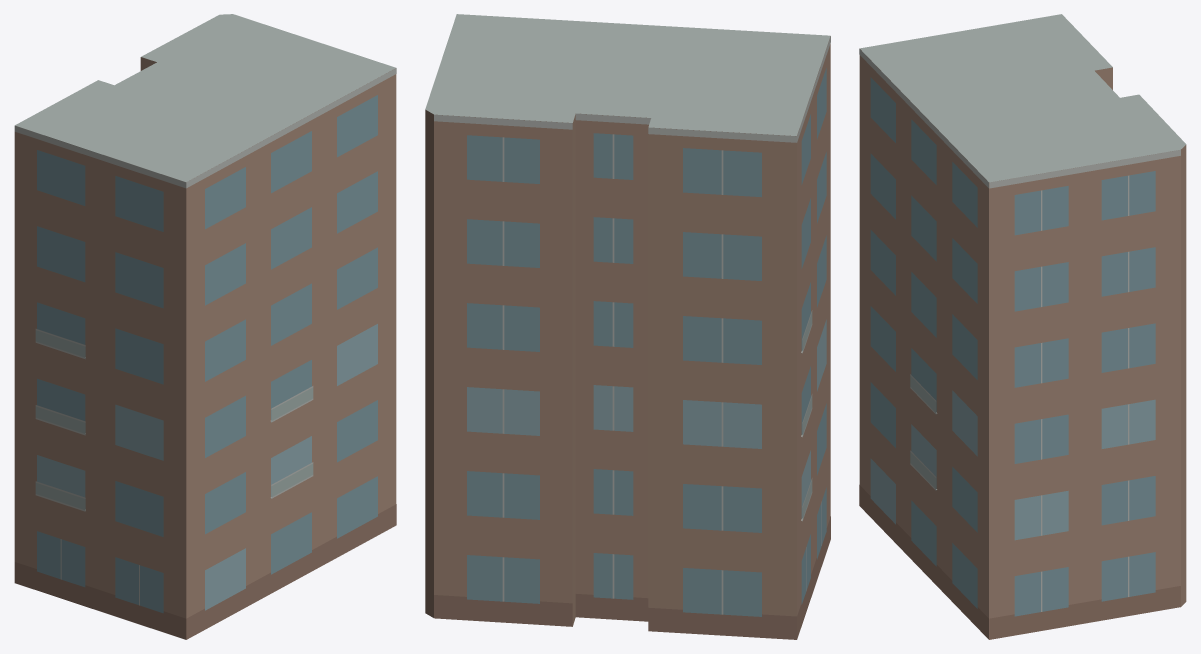
The model's file is survey-upis-32731596.glb.
3 renders of one model, left to right at view 1: azimuth 30°, elevation 25°; view 2: azimuth 150°, elevation 25°; view 3: azimuth 270°, elevation 25°, orthographic. The views are drawn at different scales.
Parts seen in each view (by area): view 1: survey-upis-32731596.tmp; view 2: survey-upis-32731596.tmp; view 3: survey-upis-32731596.tmp.
Part boxes in pixels (x1,y1,x2,y2): survey-upis-32731596.tmp: (14, 14, 396, 639); survey-upis-32731596.tmp: (425, 14, 830, 639); survey-upis-32731596.tmp: (859, 14, 1186, 639).
Bounding box in the file's own units: 14.51 × 18.35 × 11.9.
